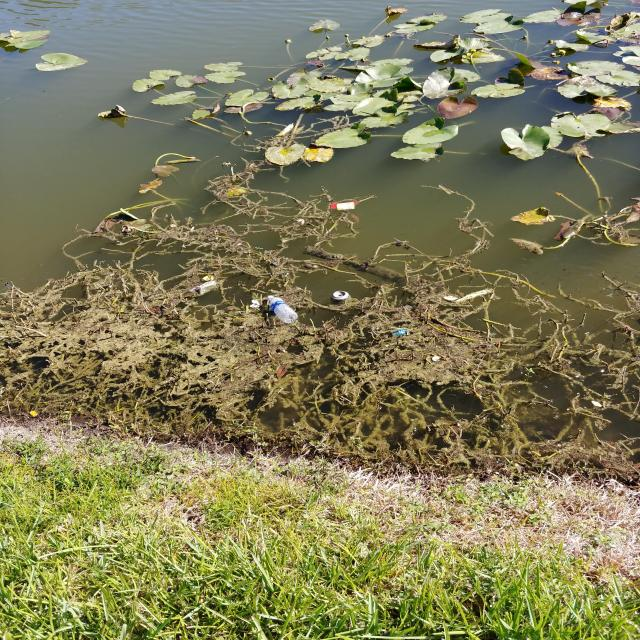litter: (264, 295, 298, 322)
